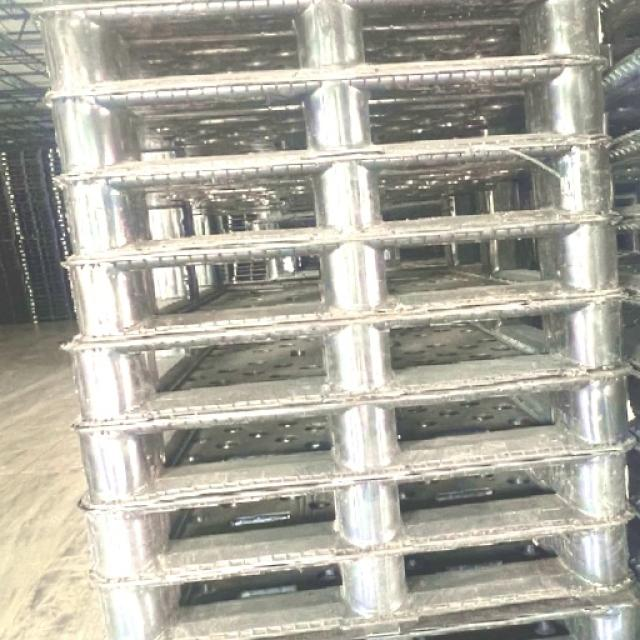igps: (72, 438, 638, 580), (54, 289, 638, 426), (44, 131, 626, 268), (67, 367, 639, 505), (52, 213, 629, 345), (34, 58, 626, 184), (82, 512, 638, 640), (6, 0, 620, 98), (234, 572, 638, 640)
